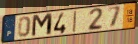0: (17, 16, 32, 39)
2: (88, 7, 105, 32)
4: (53, 11, 67, 35)
7: (107, 6, 122, 30)
I: (72, 9, 78, 34)
M: (31, 12, 54, 39)
